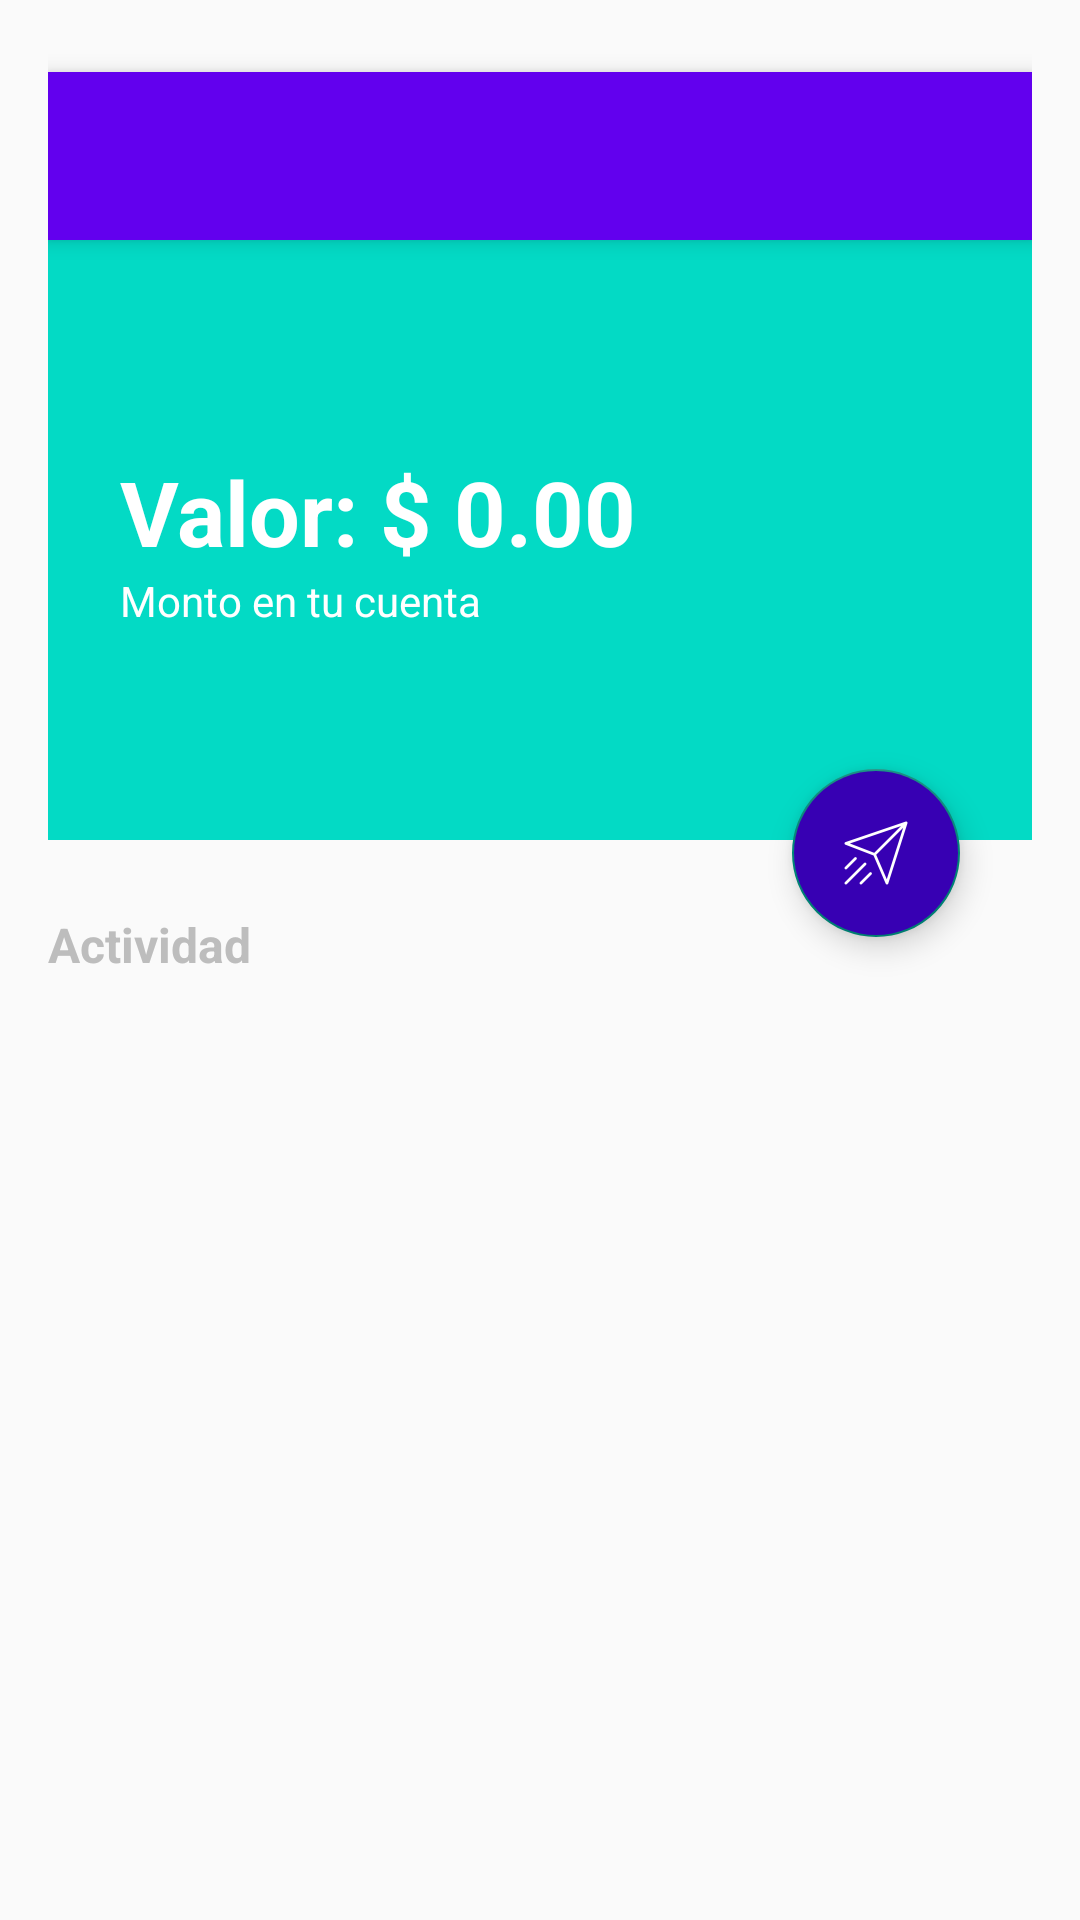

Icons on this 1080*1920 Android screen, each with the point to tap as (x=x, y=y):
Transferencia: (x=876, y=853)
